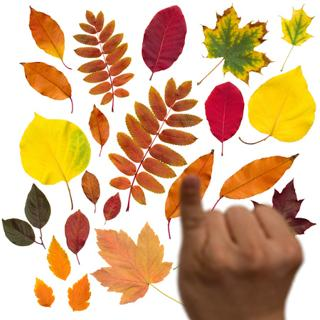FINE: (172, 172, 305, 320)
